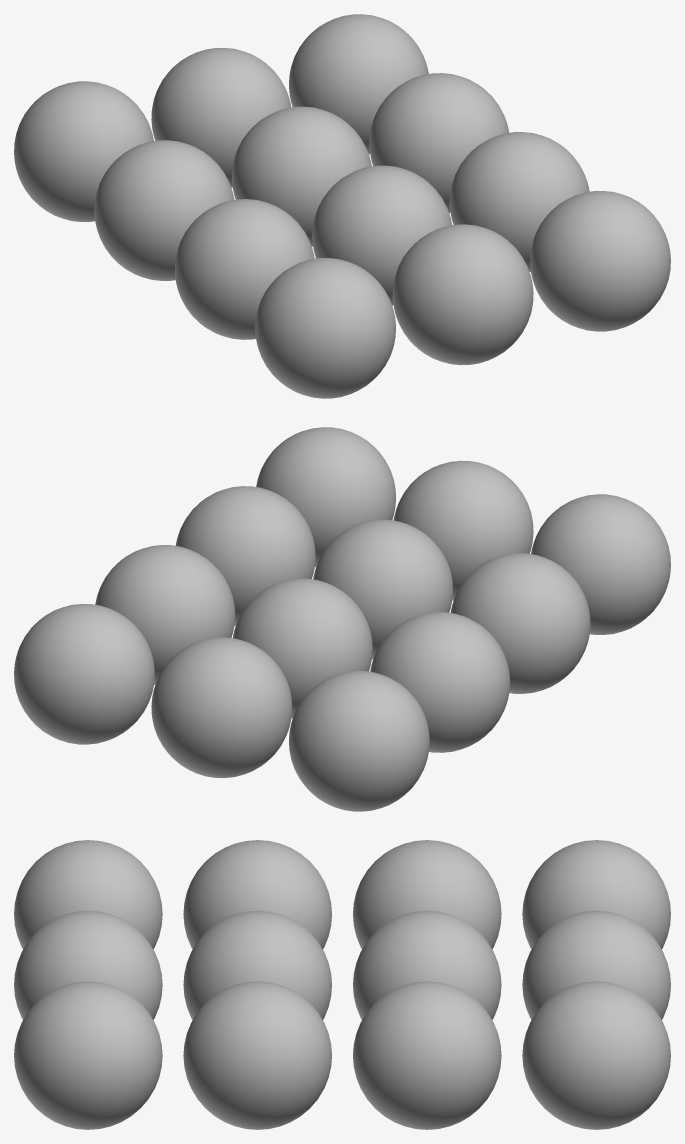
Rendered from tixin4.FBX.
The picture shows the model from 3 angles, top to bottom: view 1: azimuth 30°, elevation 25°; view 2: azimuth 150°, elevation 25°; view 3: azimuth 270°, elevation 25°; orthographic projection. The views are drawn at different scales.
Visible parts, largest first — view 1: 对象180; view 2: 对象180; view 3: 对象180.
Boxes of the visible parts, x1,y1,x2,y2 form: 对象180: [14, 14, 670, 398]; 对象180: [14, 427, 670, 811]; 对象180: [14, 840, 670, 1129].
Size of the model in its own units: 130 by 40 by 177.
